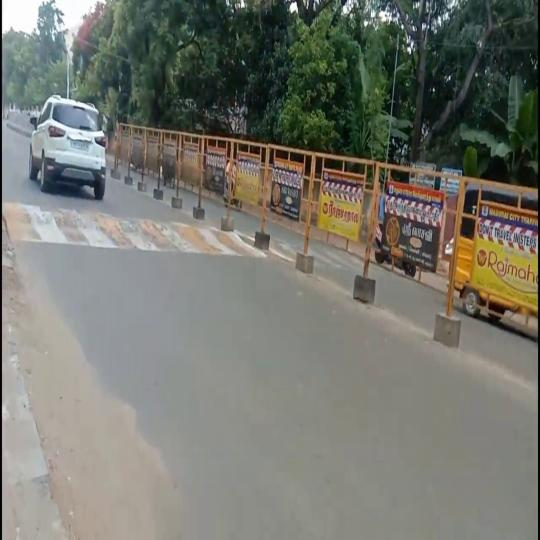Speed Bump: (2, 202, 172, 255), (171, 221, 221, 255), (313, 239, 351, 265), (221, 230, 254, 256), (270, 235, 296, 263)
